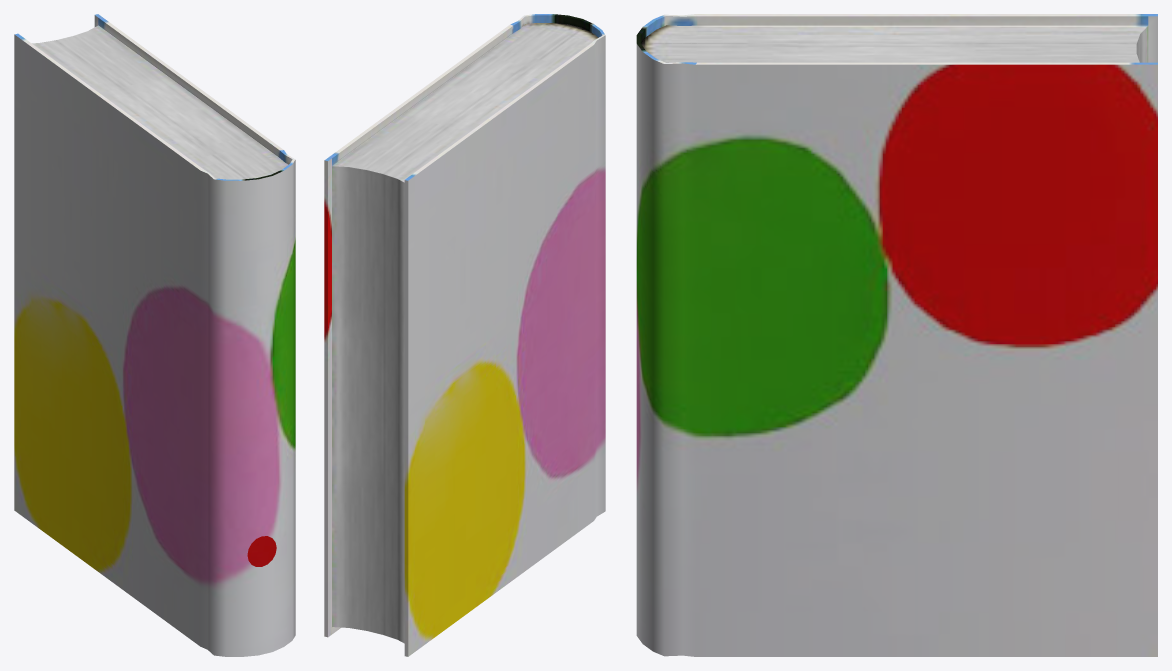
Rendered from Book_1.fbx.
3 renders of one model, left to right at view 1: azimuth 30°, elevation 25°; view 2: azimuth 150°, elevation 25°; view 3: azimuth 270°, elevation 25°, orthographic. The views are drawn at different scales.
Visible parts, largest first — view 1: Book_1; view 2: Book_1; view 3: Book_1.
Boxes of the visible parts, bbox=[...] form: Book_1: bbox=[14, 14, 295, 656]; Book_1: bbox=[324, 14, 605, 656]; Book_1: bbox=[636, 14, 1157, 656].
Size of the model in its own units: 4.6 by 25 by 20.04.
